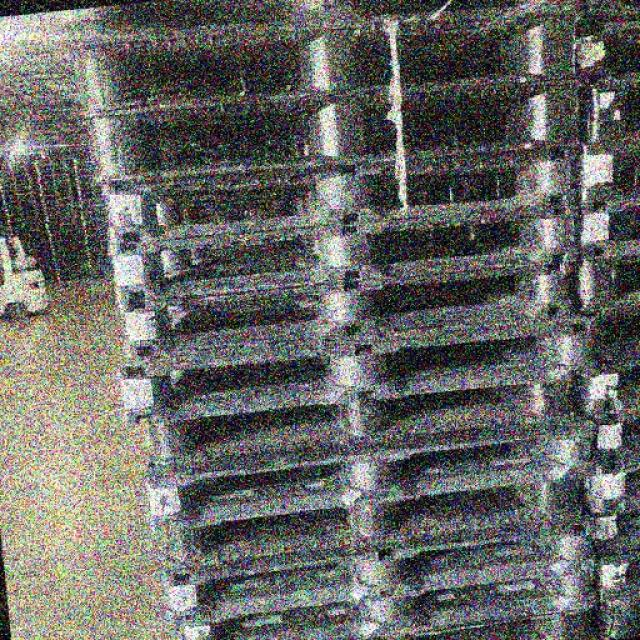igps: (78, 69, 590, 198), (111, 309, 607, 436), (132, 408, 602, 542), (67, 5, 591, 124), (97, 132, 592, 254), (102, 192, 588, 312), (108, 254, 587, 370), (144, 458, 592, 582), (146, 517, 604, 629), (138, 370, 580, 483), (160, 551, 607, 640), (65, 0, 587, 65), (203, 571, 612, 640), (565, 0, 640, 86), (572, 65, 638, 149), (560, 249, 640, 317), (568, 134, 639, 210), (560, 364, 640, 426), (574, 486, 640, 558), (571, 196, 639, 265), (580, 299, 639, 374), (574, 460, 640, 520), (583, 411, 640, 474), (584, 582, 640, 640), (588, 543, 640, 601)
